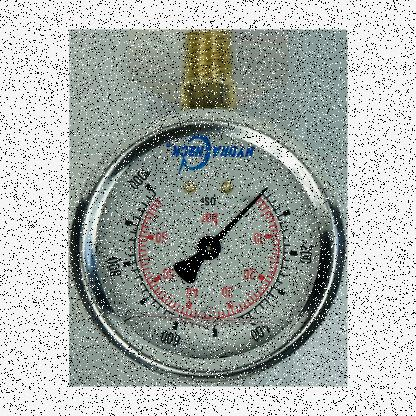needle: (214, 186, 269, 243)
